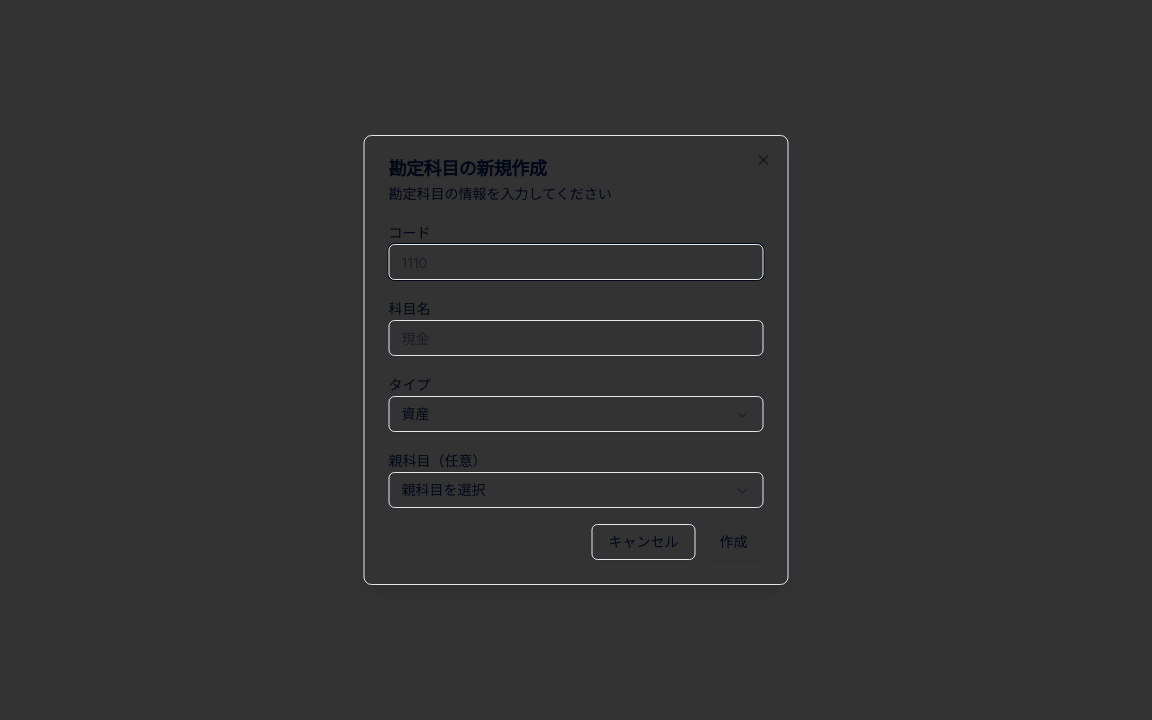
AccountDialog - ユーザーインタラクション › 新規勘定科目作成のユーザーシナリオ › 【シナリオ1】新規スタッフが必須項目を未入力で登録しようとした場合、適切なエラーメッセージが表示される
The width and height of the screenshot is (1152, 720).
Note: 作成ボタンをクリック（必須項目未入力）
Click the button "作成" at {"x": 734, "y": 542}, box [704,524,764,560]
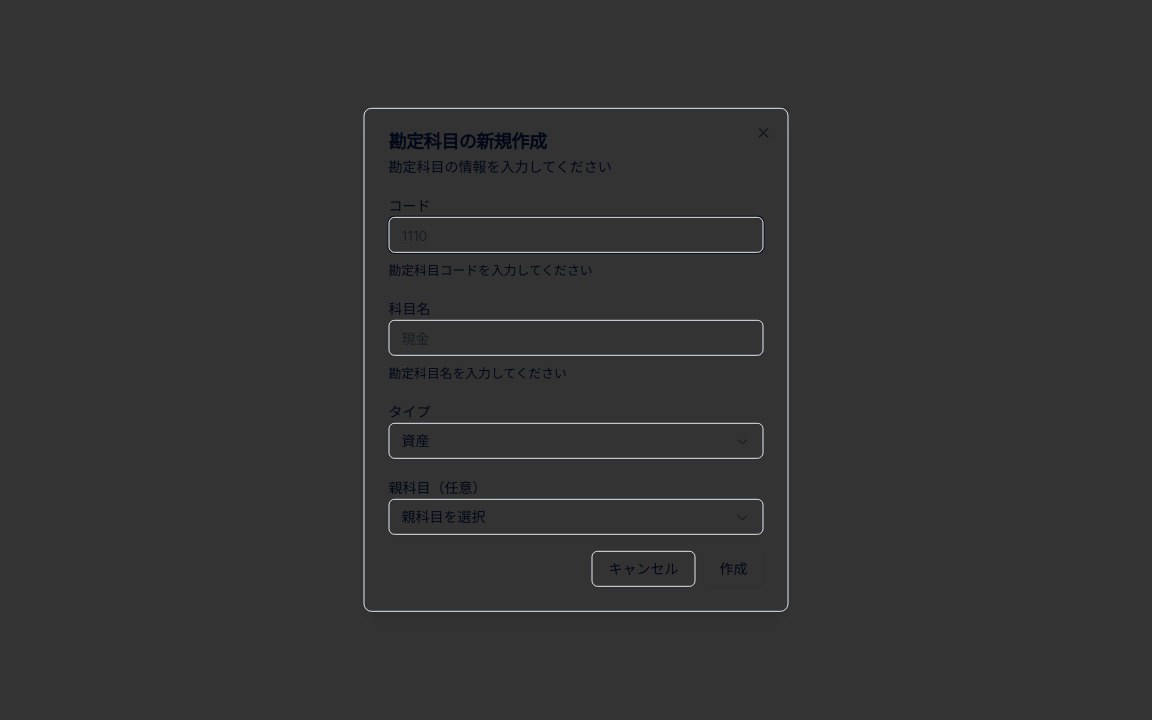
Check: the text "勘定科目コードを入力してください" is shown, box [388,263,592,278]
Check: the text "勘定科目名を入力してください" is shown, box [388,366,567,381]
